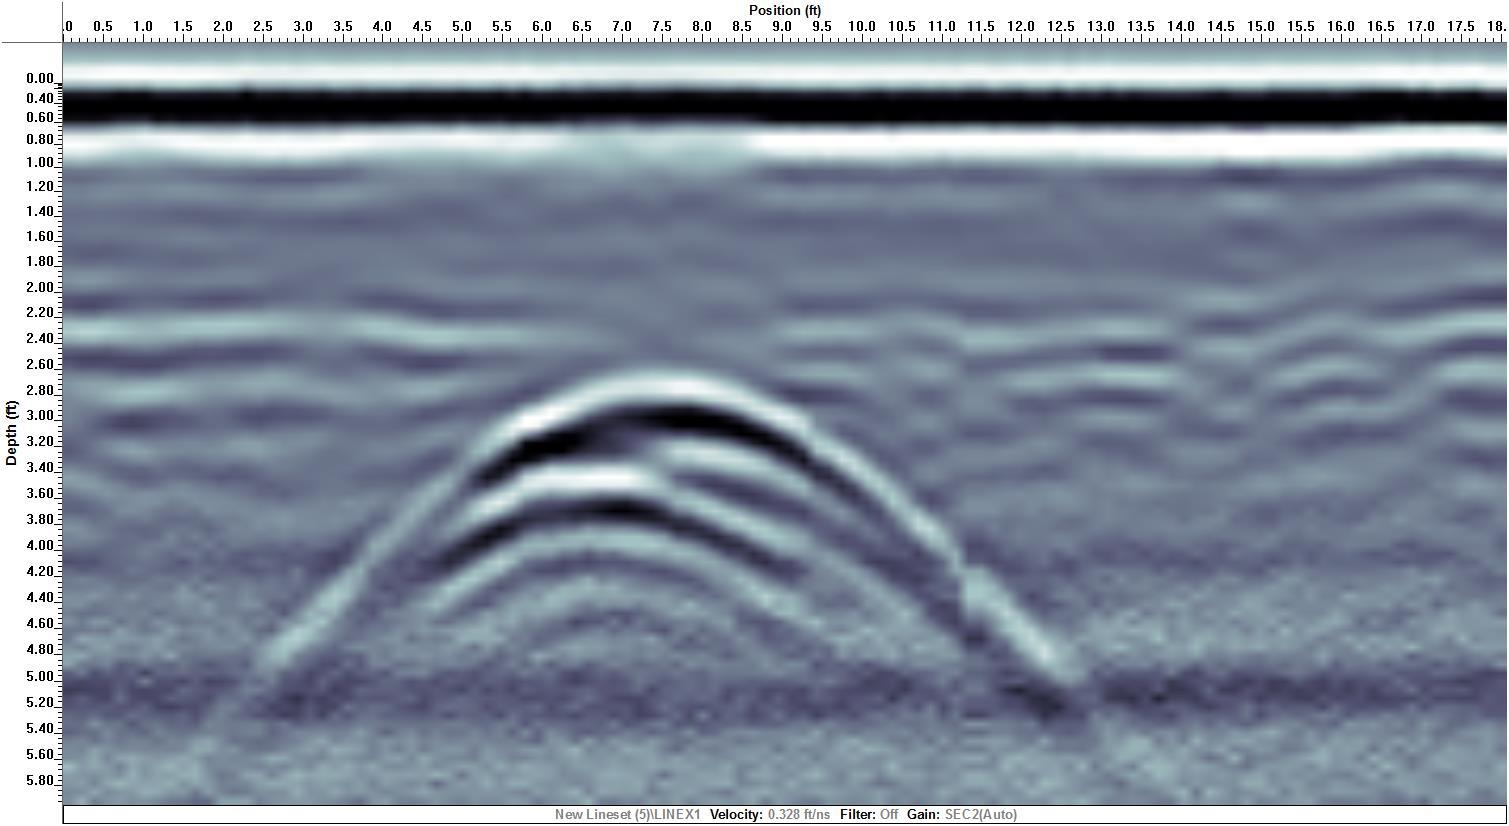hyperbola: (376, 360, 990, 667), (415, 455, 839, 665)
